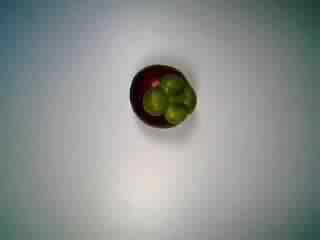mangosteen: (125, 59, 198, 139)
